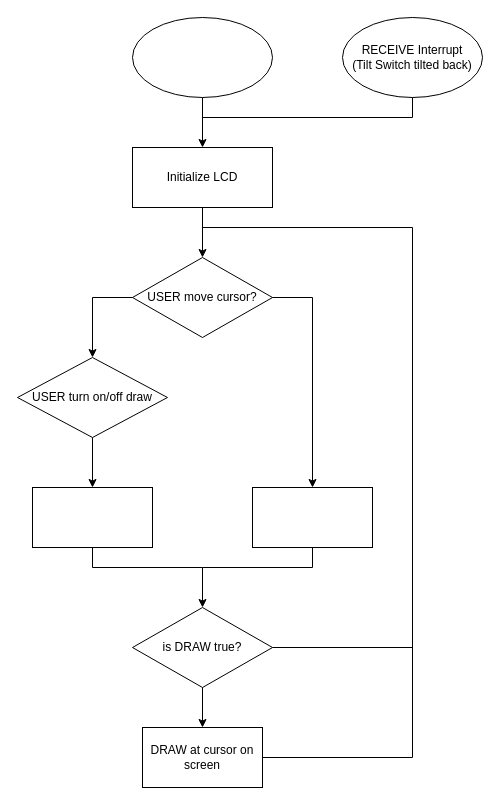
Image size: 500x805. Some labels were removed from this diagram. The centre of each missing label's shape, as x and y in pixels:
Move Cursor: [312,517]
START: [202,57]
Toggle Draw: [92,517]
